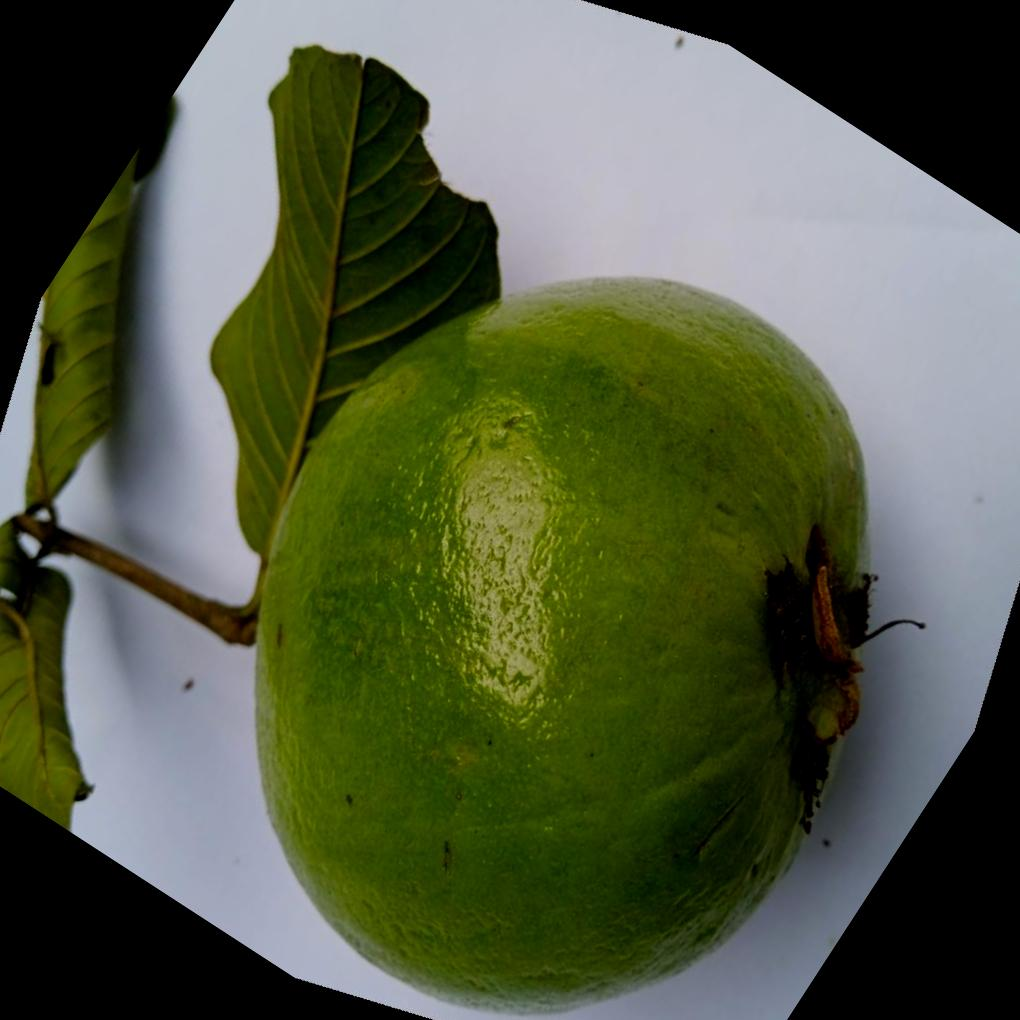FreshGuava: (209, 39, 876, 1014)
